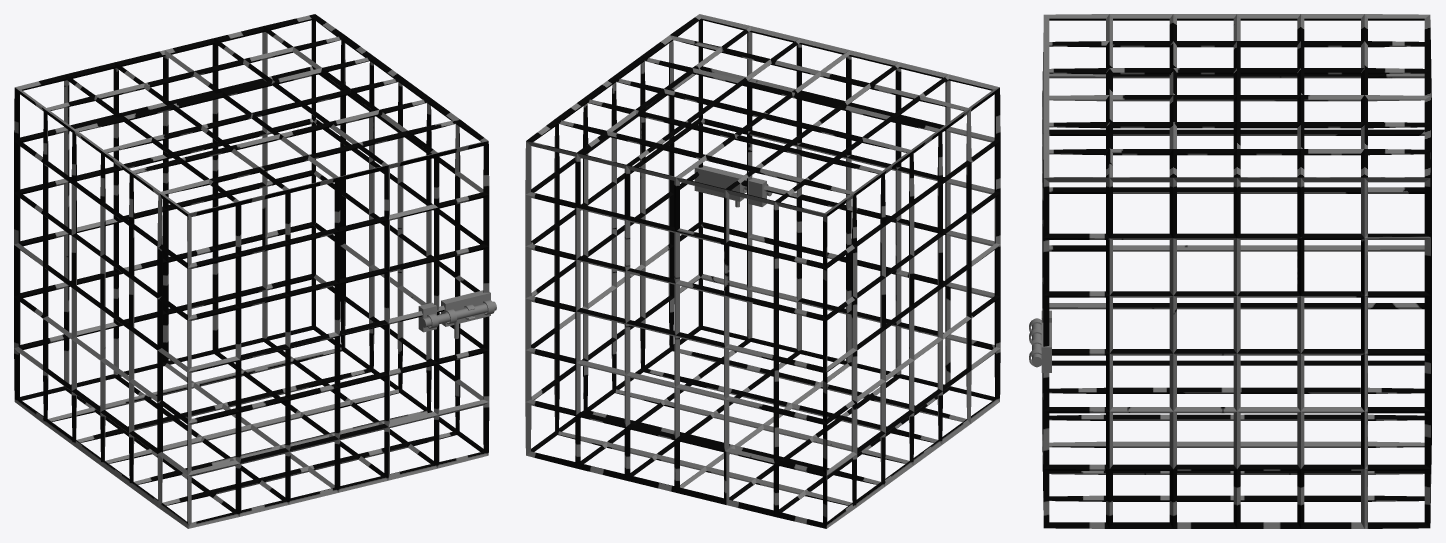
The model's file is Jaula.fbx.
3 views of the same model, side by side, from view 1: azimuth 30°, elevation 25°; view 2: azimuth 150°, elevation 25°; view 3: azimuth 270°, elevation 25° (orthographic). The views are drawn at different scales.
Visible parts, largest first — view 1: Cubo; view 2: Cubo; view 3: Cubo.
Part boxes in pixels (x1,y1,x2,y2): Cubo: (14,14,496,528); Cubo: (525,14,1000,528); Cubo: (1029,14,1431,528).
Bounding box in the file's own units: 43.81 × 43.57 × 45.05.
